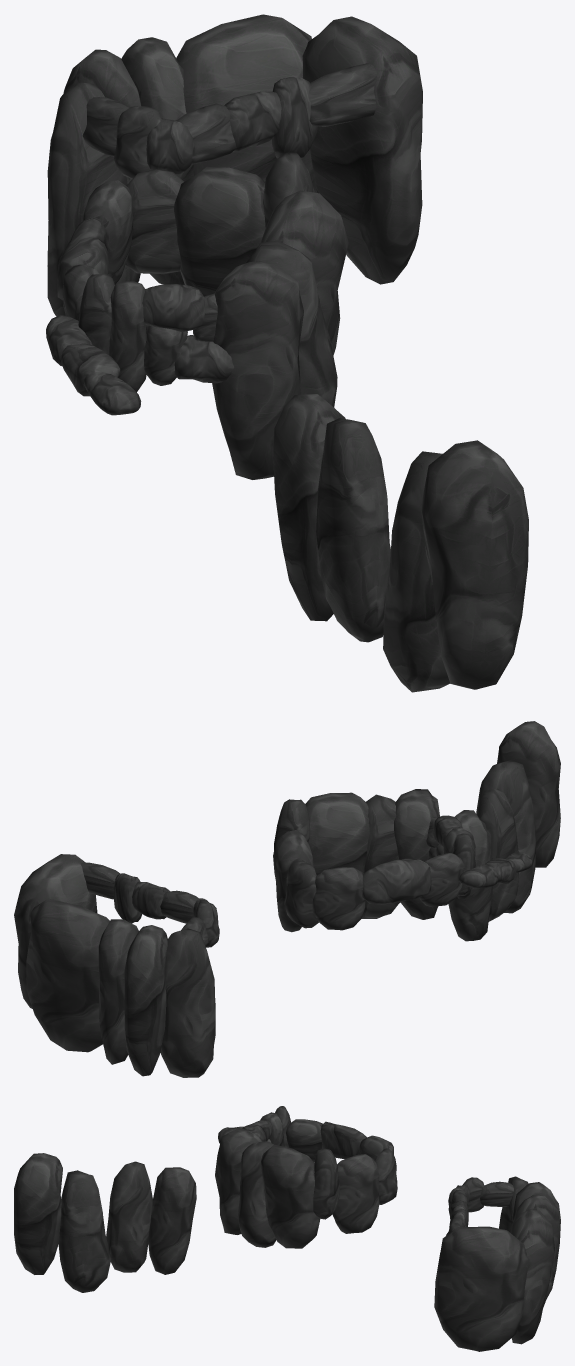
Rendered from BananaIslandRocksShape.dae.
3 views of the same model, one above another, from view 1: azimuth 30°, elevation 25°; view 2: azimuth 150°, elevation 25°; view 3: azimuth 270°, elevation 25° (orthographic). The views are drawn at different scales.
Visible parts, largest first — view 1: BananaIslandRocks; view 2: BananaIslandRocks; view 3: BananaIslandRocks.
Part boxes in pixels (box(x1,y1,x2,y2)): BananaIslandRocks: box(46, 14, 528, 692); BananaIslandRocks: box(14, 721, 560, 1077); BananaIslandRocks: box(14, 1106, 560, 1351).
Size of the model in its own units: 151 by 84.8 by 254.
